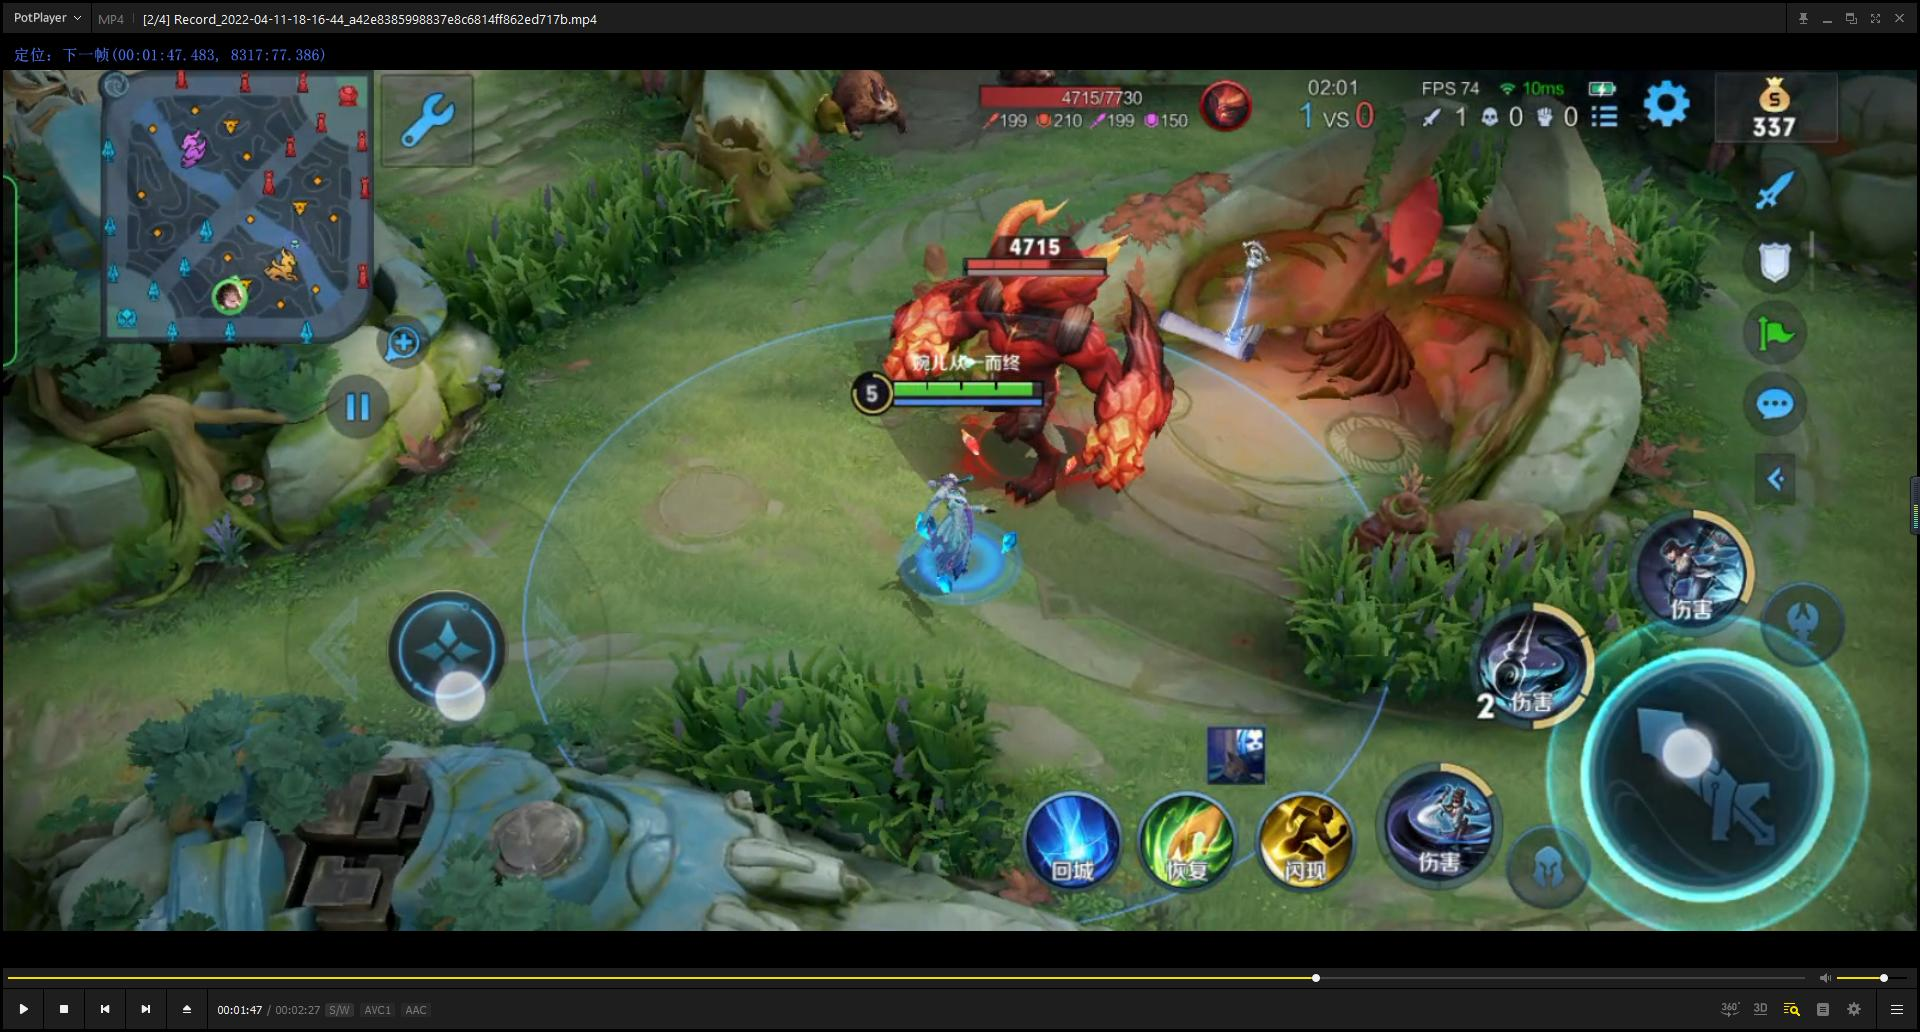Buff: (827, 222, 1192, 547)
Hero: (875, 466, 1041, 627)
Pig: (815, 64, 920, 149)
